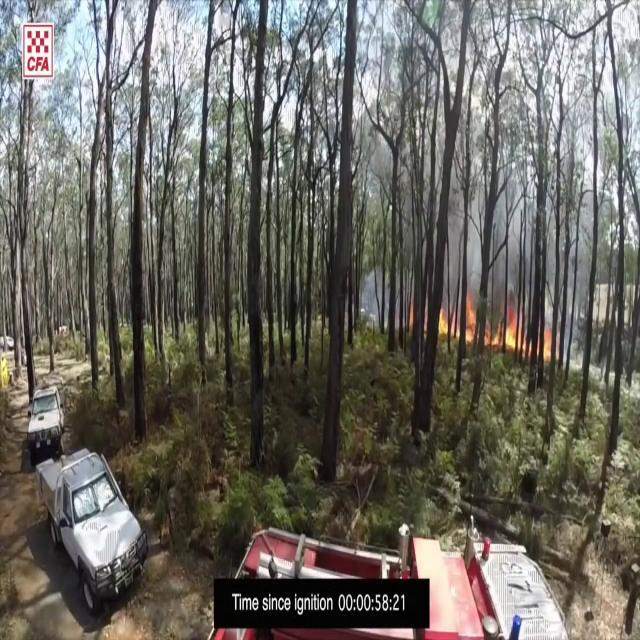Fire: (437, 285, 479, 350), (489, 304, 526, 362)
